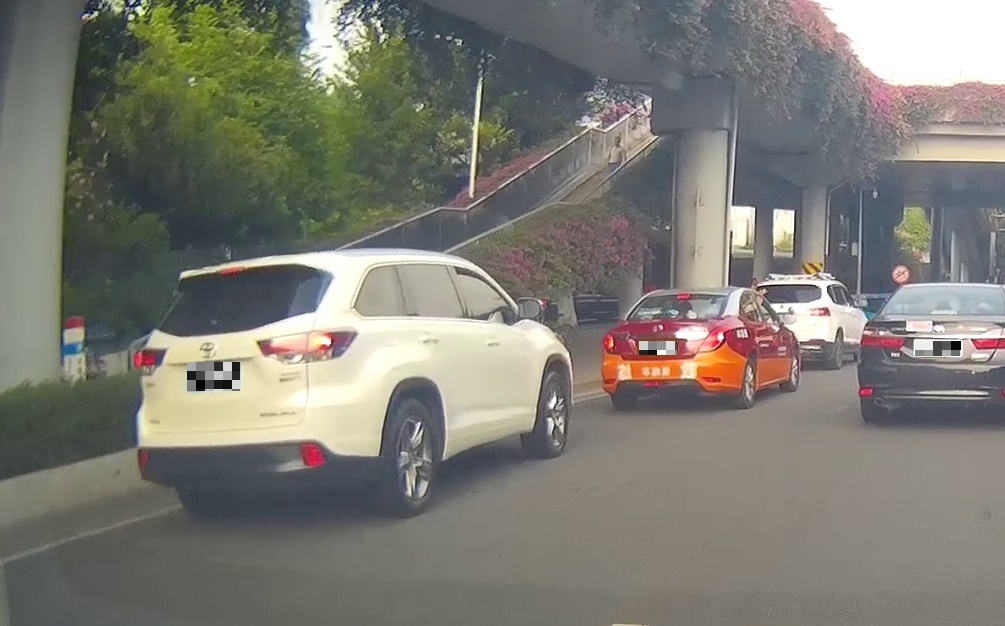L_light: (861, 327, 905, 347), (137, 348, 167, 375), (604, 332, 625, 354)
R_light: (257, 327, 356, 364), (697, 325, 735, 353), (972, 328, 1005, 349)
T_light: (218, 266, 246, 275), (931, 309, 958, 315), (676, 293, 690, 299)
day-brake: (136, 253, 358, 519), (602, 288, 736, 410)
day-no: (858, 282, 1005, 422)
plate_1: (187, 362, 240, 391)
plate_2: (639, 341, 677, 355)
plate_3: (915, 341, 961, 356)
